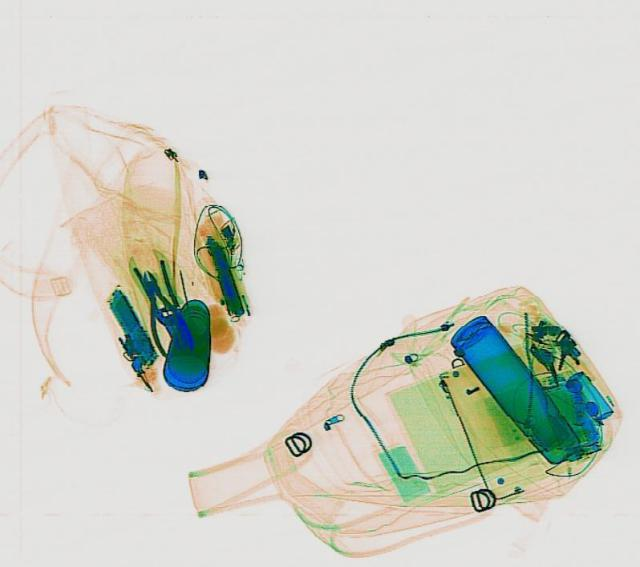Pliers: (126, 266, 196, 357), (131, 259, 189, 328)
